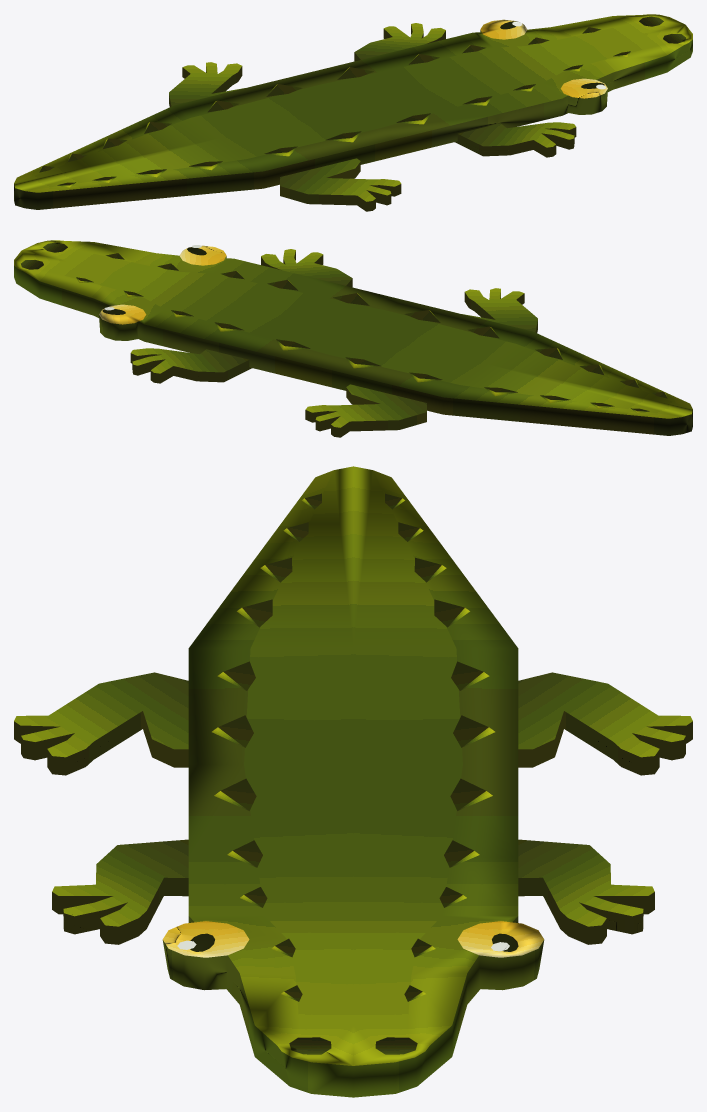
File: CrocBoard.glb
3 views of the same model, one above another, from view 1: azimuth 30°, elevation 25°; view 2: azimuth 150°, elevation 25°; view 3: azimuth 270°, elevation 25° (orthographic). The views are drawn at different scales.
Visible parts, largest first — view 1: CrocBoard; view 2: CrocBoard; view 3: CrocBoard.
Boxes of the visible parts, x1=… form: CrocBoard: x1=14, y1=14, x2=692, y2=211; CrocBoard: x1=14, y1=240, x2=692, y2=437; CrocBoard: x1=14, y1=466, x2=692, y2=1097.
Size of the model in its own units: 13.02 by 0.4383 by 6.23.
1 material, 1 textured.
